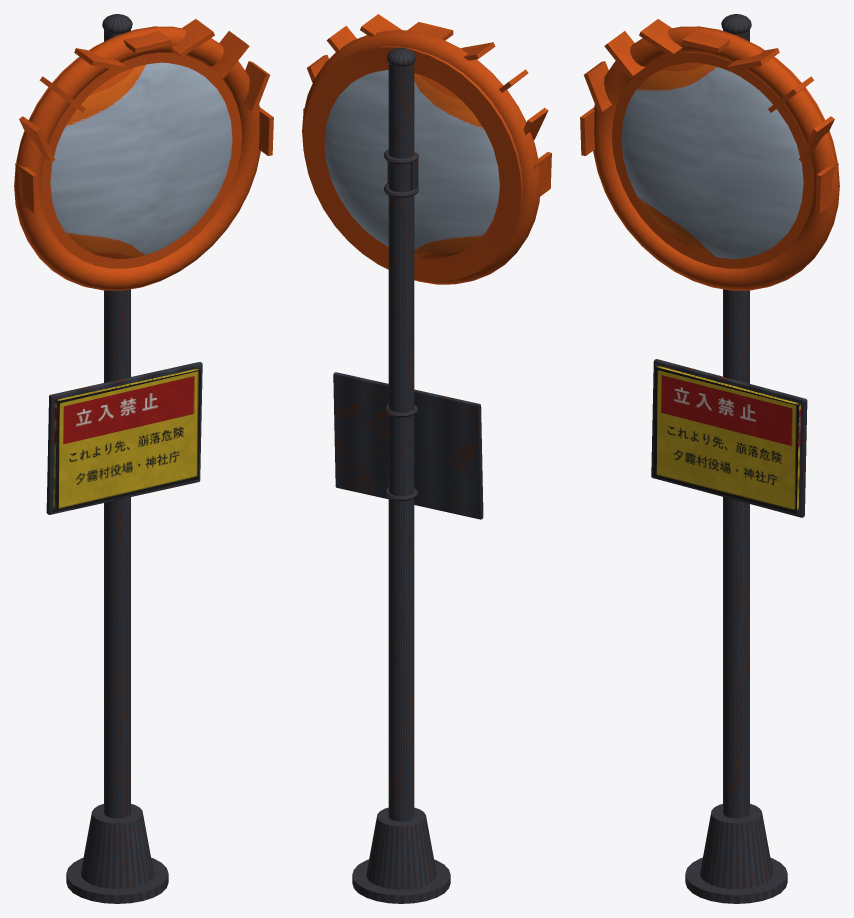
File: Prop_CurveMirror.fbx
3 views of the same model, side by side, from view 1: azimuth 30°, elevation 25°; view 2: azimuth 150°, elevation 25°; view 3: azimuth 330°, elevation 25° (orthographic). The views are drawn at different scales.
Visible parts, largest first — view 1: Prop_CurveMirror; view 2: Prop_CurveMirror; view 3: Prop_CurveMirror.
Boxes of the visible parts, box(x1,y1,x2,y2) form: Prop_CurveMirror: box(14, 14, 273, 903); Prop_CurveMirror: box(302, 14, 551, 903); Prop_CurveMirror: box(580, 14, 839, 903).
Size of the model in its own units: 0.884 by 2.99 by 0.385.
